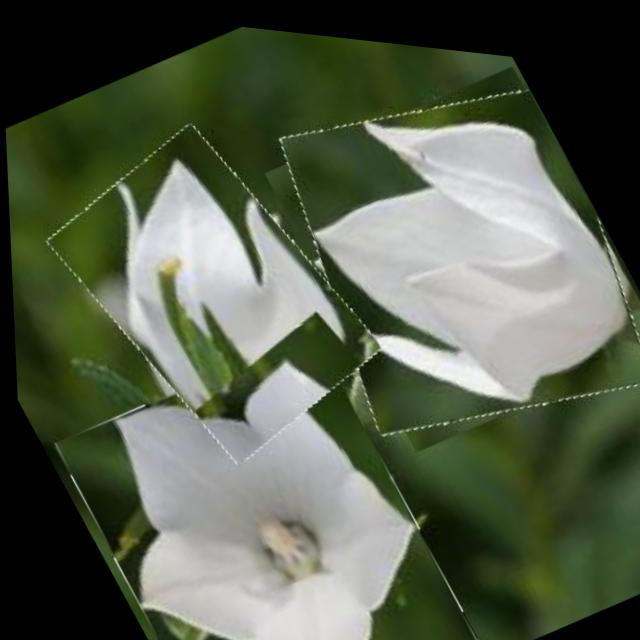Flower: (241, 21, 640, 481), (43, 302, 478, 640), (34, 89, 389, 488)
